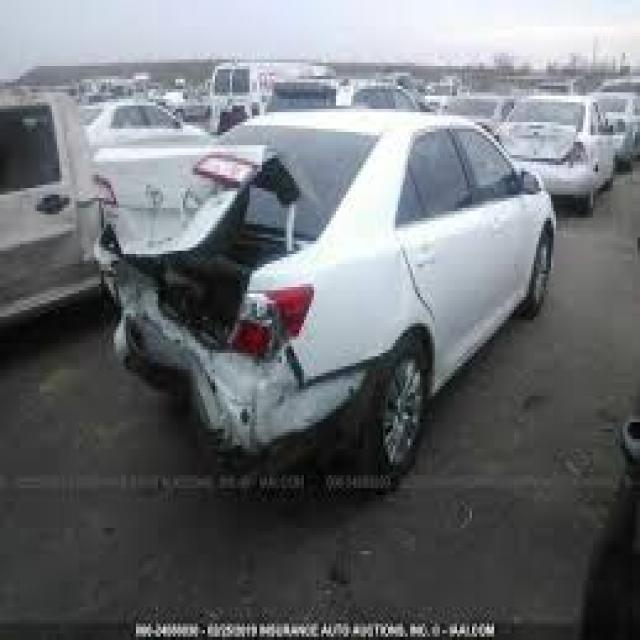damaged-trunk: (85, 144, 299, 346)
